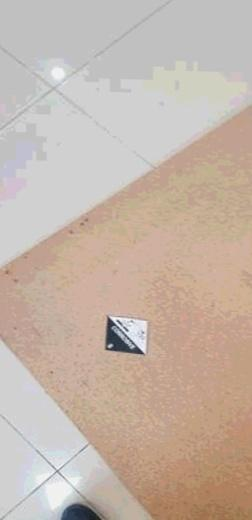corrosive: (103, 313, 149, 358)
